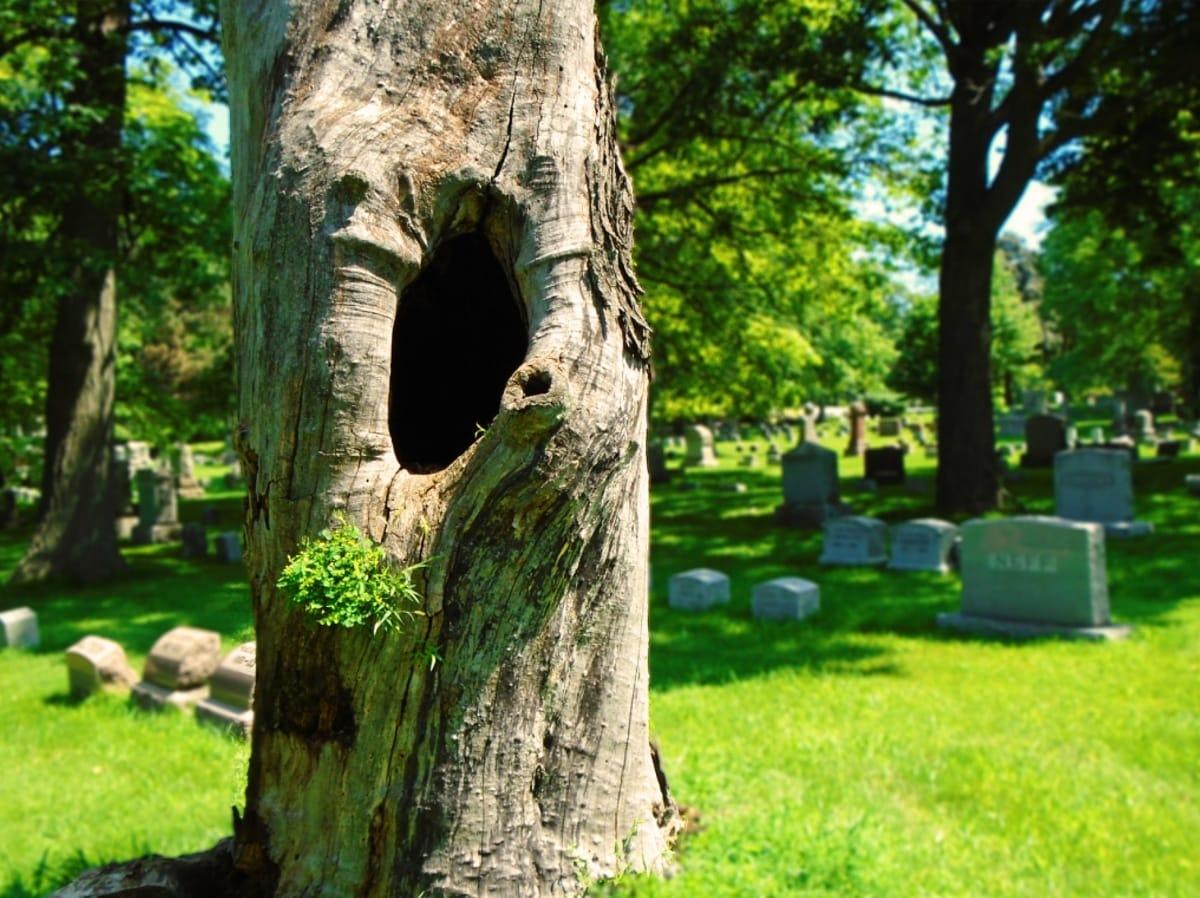hollow: (389, 233, 527, 471)
